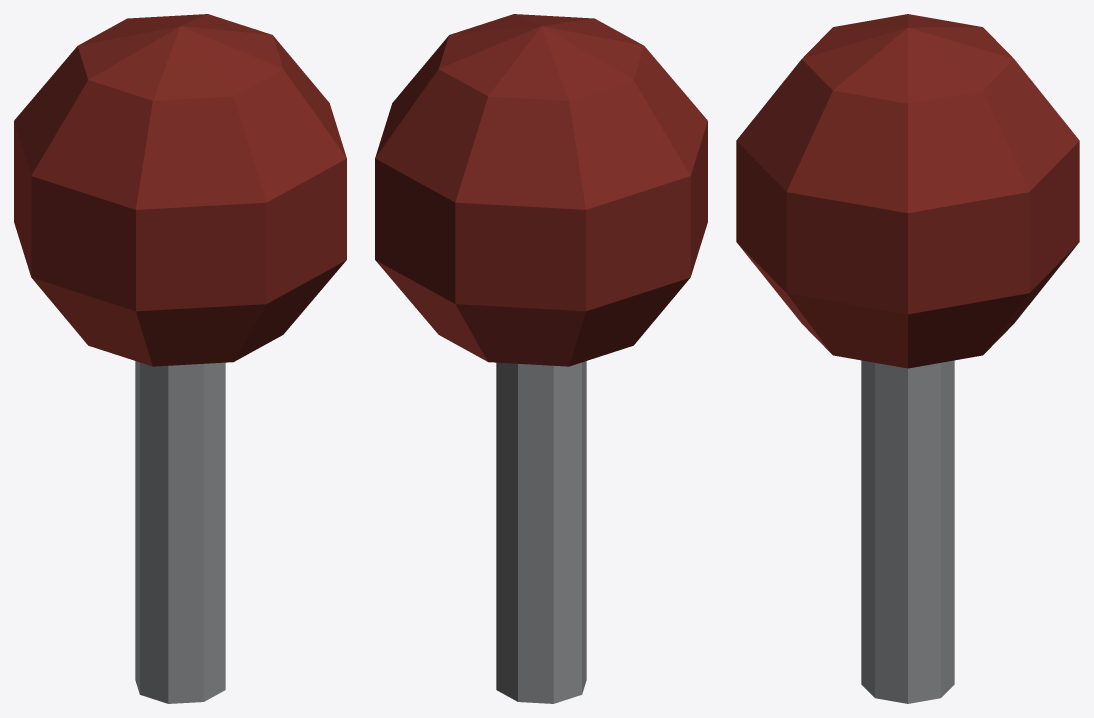
The model's file is SM_Prop_Arcade_Machine_01_Basic_Joystick_01.obj.
The picture shows the model from 3 angles, left to right: view 1: azimuth 30°, elevation 25°; view 2: azimuth 150°, elevation 25°; view 3: azimuth 270°, elevation 25°; orthographic projection.
Visible parts, largest first — view 1: SM_Prop_Arcade_Machine_01_Basic_Joystick_01_0; view 2: SM_Prop_Arcade_Machine_01_Basic_Joystick_01_0; view 3: SM_Prop_Arcade_Machine_01_Basic_Joystick_01_0.
Part boxes in pixels (x1,y1,x2,y2): SM_Prop_Arcade_Machine_01_Basic_Joystick_01_0: [14, 14, 346, 703]; SM_Prop_Arcade_Machine_01_Basic_Joystick_01_0: [375, 14, 707, 703]; SM_Prop_Arcade_Machine_01_Basic_Joystick_01_0: [736, 14, 1079, 703].
Bounding box in the file's own units: 0.0625 × 0.1317 × 0.0625.
1 material, 1 textured.
